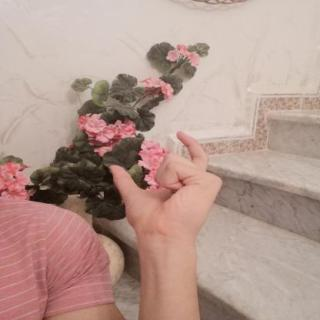NOON: (98, 123, 237, 253)
